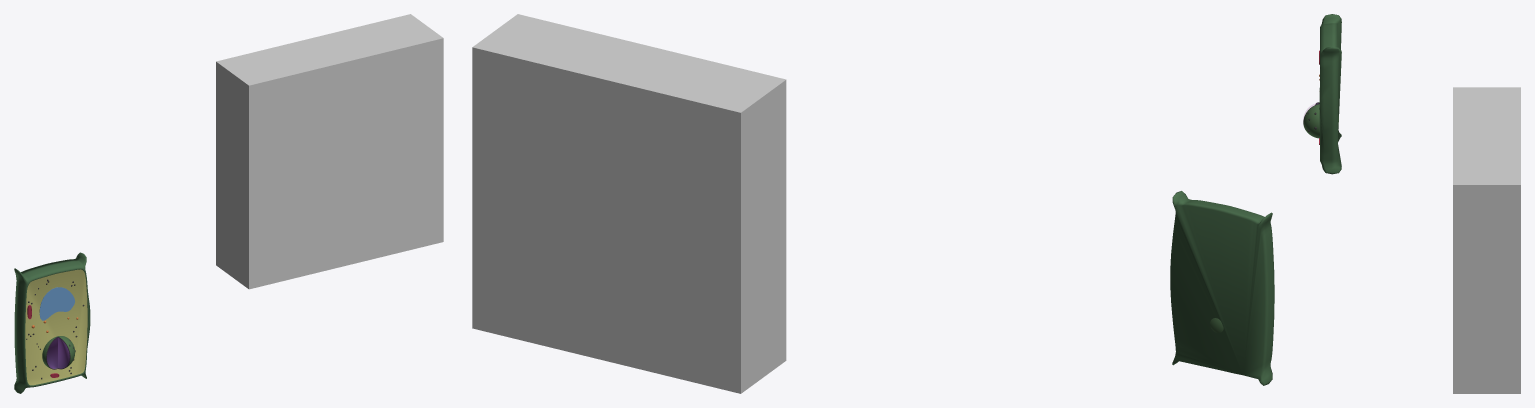
The model's file is kletkarast.fbx.
The picture shows the model from 3 angles, left to right: view 1: azimuth 30°, elevation 25°; view 2: azimuth 150°, elevation 25°; view 3: azimuth 270°, elevation 25°; orthographic projection. The views are drawn at different scales.
Parts seen in each view (by area): view 1: Cube, Cube.001, Sphere, Cube.002; view 2: Cube, Cube.001; view 3: Cube, Cube.001, Sphere.
Boxes of the visible parts, <box> form: Cube: <box>216,14,443,289</box>; Cube.001: <box>14,252,90,393</box>; Sphere: <box>42,336,75,369</box>; Cube.002: <box>39,287,74,320</box>; Cube: <box>472,14,786,393</box>; Cube.001: <box>1170,191,1274,385</box>; Cube: <box>1453,87,1520,393</box>; Cube.001: <box>1319,14,1341,174</box>; Sphere: <box>1303,102,1338,138</box>.
Size of the model in its own units: 499 by 200 by 189.
